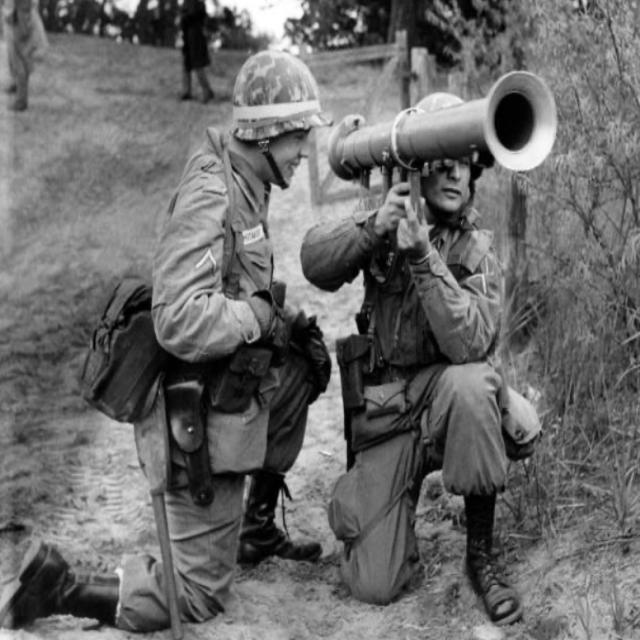bazooka: (313, 54, 557, 193)
